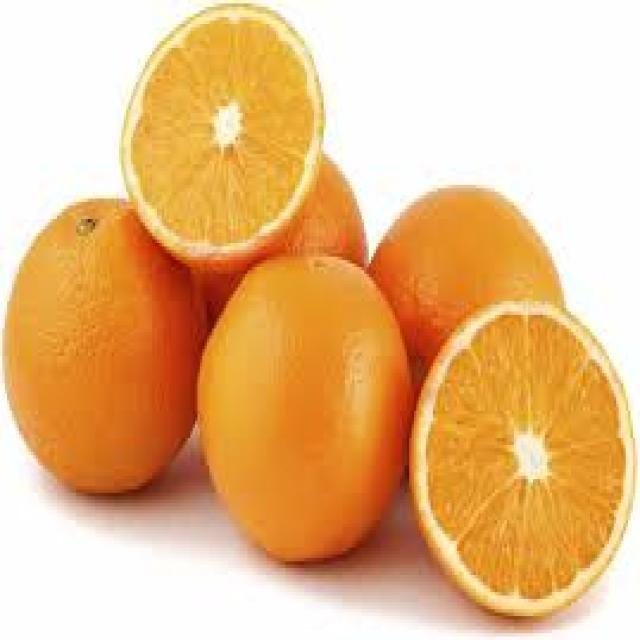non-mango: (408, 299, 636, 618), (195, 253, 412, 564), (1, 196, 206, 495), (118, 1, 325, 272), (366, 182, 565, 373)
